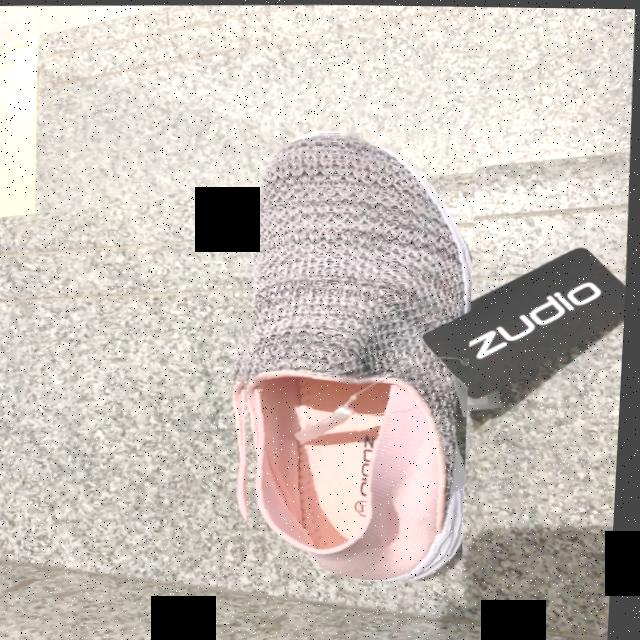shoe: (245, 132, 475, 579)
